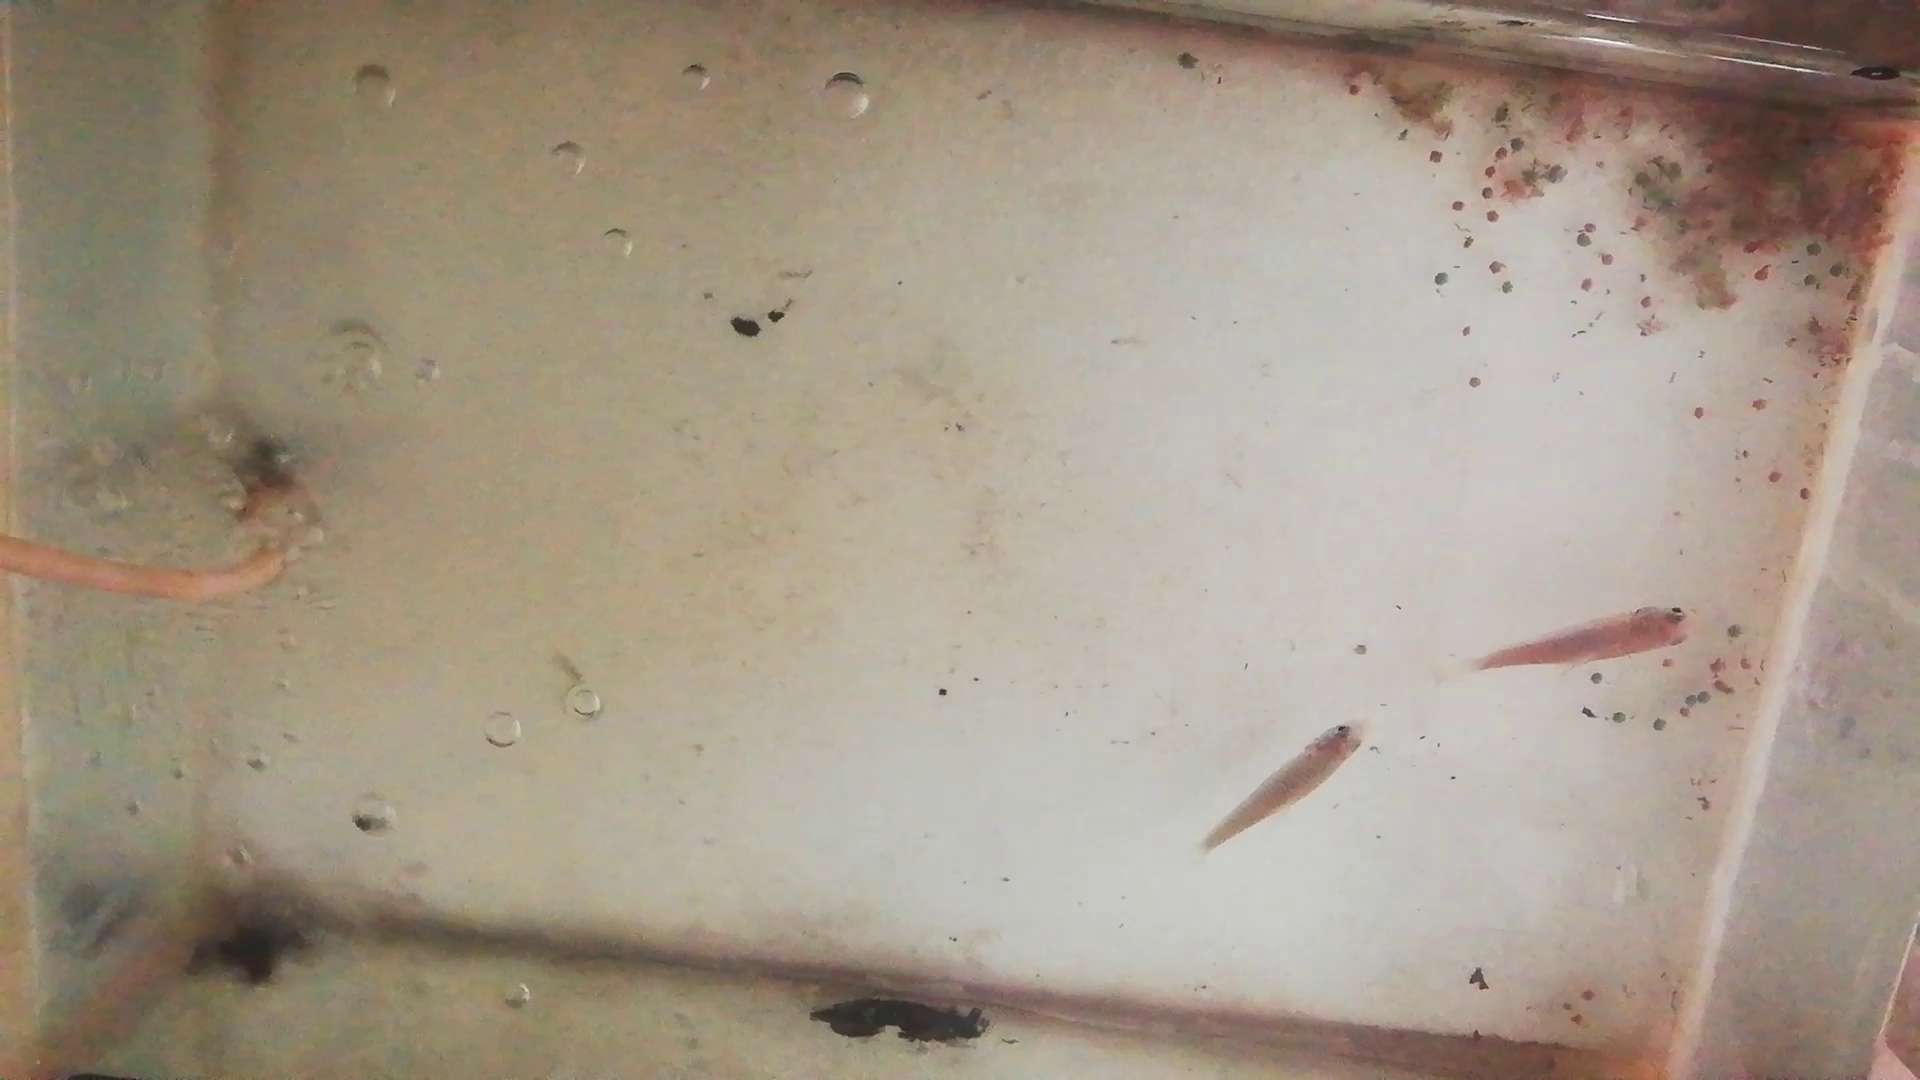fish: (1203, 715, 1370, 855), (1481, 601, 1696, 673)
